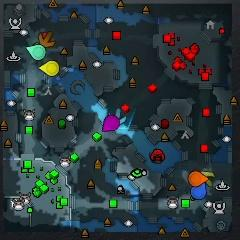p1: (190, 182, 207, 200)
p2: (26, 45, 46, 60)
p3: (102, 115, 119, 131)
p4: (39, 61, 58, 77)
p5: (189, 171, 207, 186)
x2: (200, 171, 214, 188)
x3: (108, 108, 127, 124)
x5: (38, 31, 54, 47)
